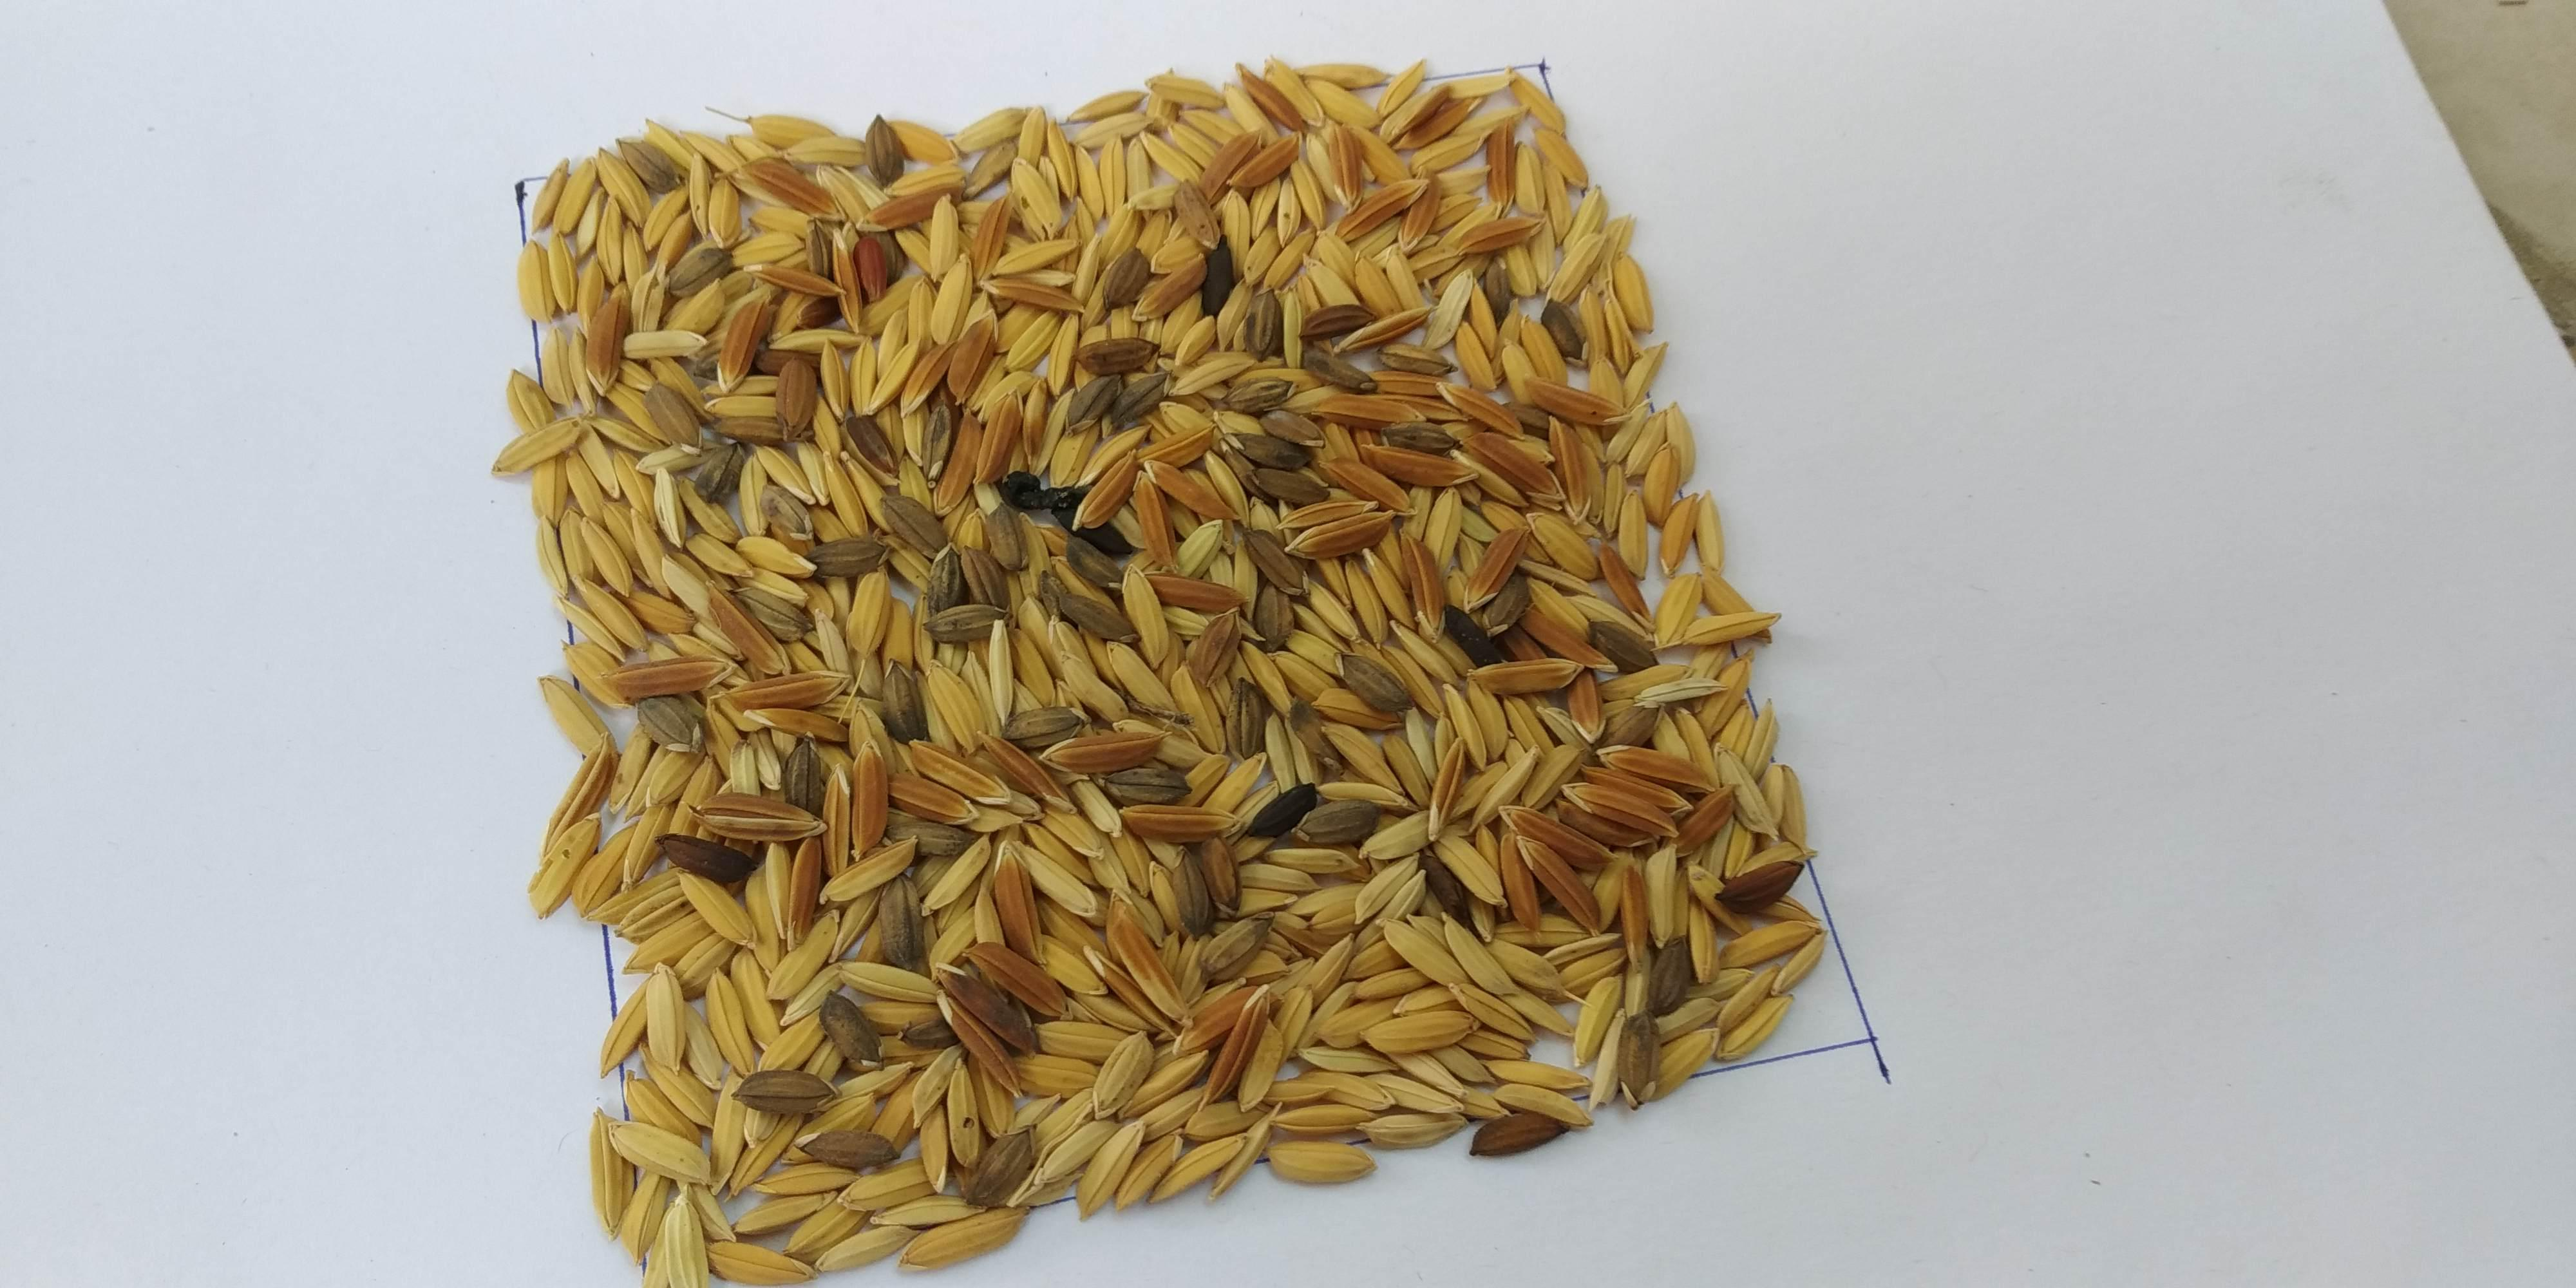impure: (649, 161, 1579, 1066)
